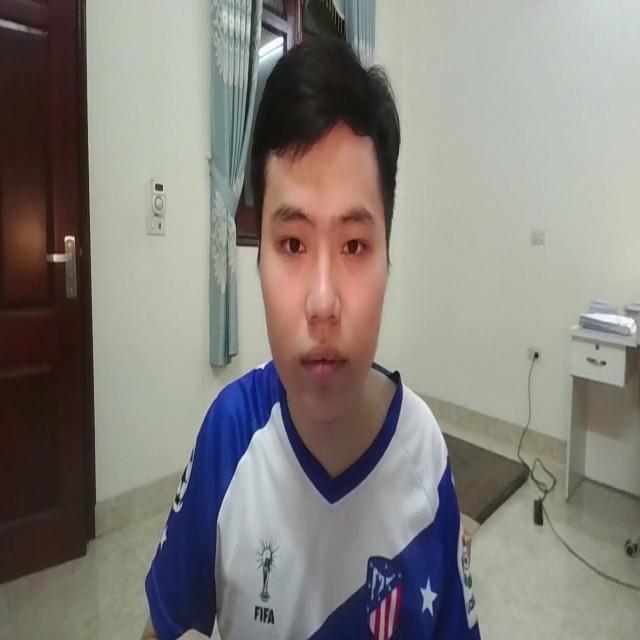student: (119, 28, 499, 640)
